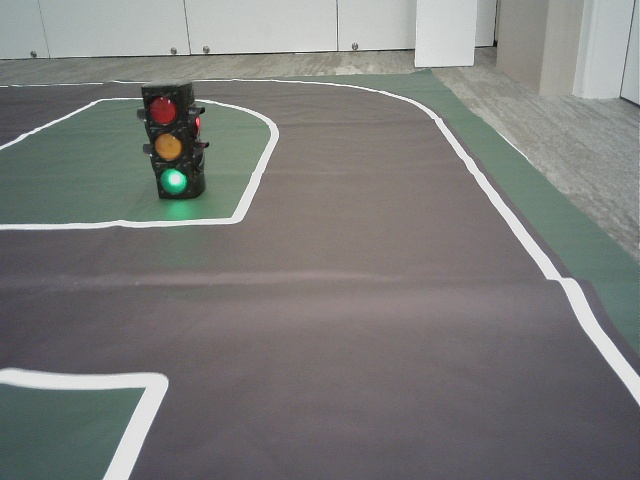green: (146, 91, 192, 194)
